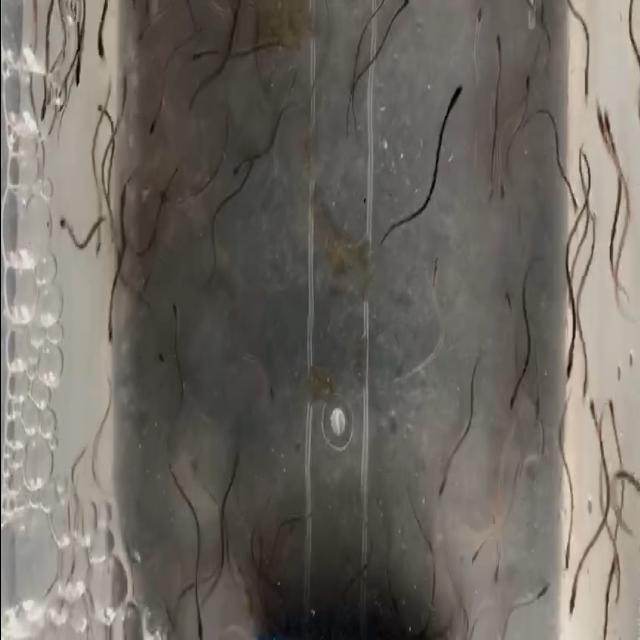active_glass_eel: (546, 502, 580, 576), (419, 450, 463, 507), (599, 362, 627, 447), (487, 19, 508, 103), (560, 322, 580, 408), (518, 41, 540, 119), (434, 74, 464, 131), (489, 166, 509, 247), (499, 378, 534, 424), (564, 178, 584, 254), (463, 0, 494, 48), (520, 566, 552, 612), (564, 536, 580, 624), (459, 528, 487, 578), (580, 379, 600, 436), (99, 296, 118, 354), (592, 85, 610, 143), (570, 69, 592, 115), (488, 548, 512, 588), (144, 99, 159, 149), (230, 448, 248, 488), (91, 34, 113, 66), (150, 343, 170, 378), (56, 202, 74, 240), (204, 247, 218, 294), (160, 161, 178, 197), (428, 246, 442, 292), (187, 30, 201, 76), (34, 95, 50, 133), (92, 84, 106, 124), (230, 152, 246, 186), (168, 296, 184, 322), (132, 28, 148, 50), (400, 0, 412, 18)
